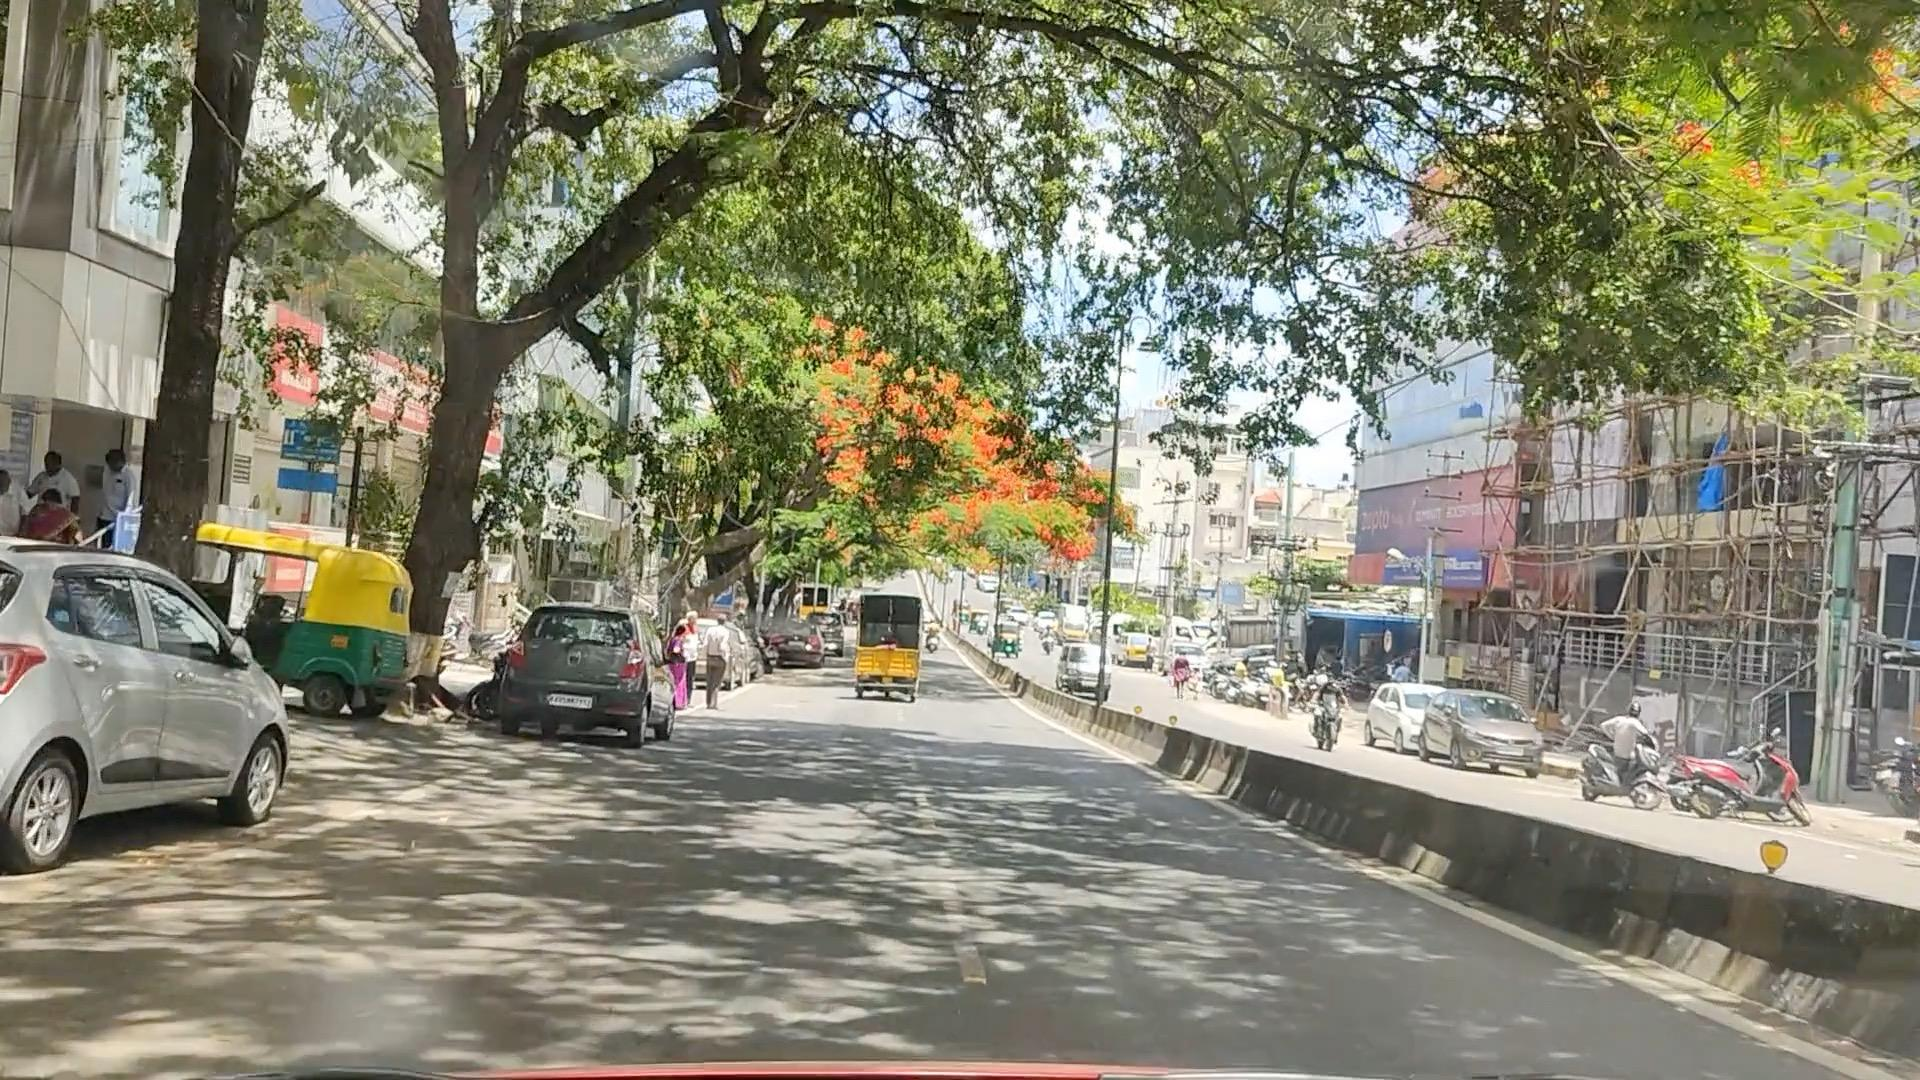HMV: (840, 589, 939, 700)
LMV: (504, 596, 645, 740)
